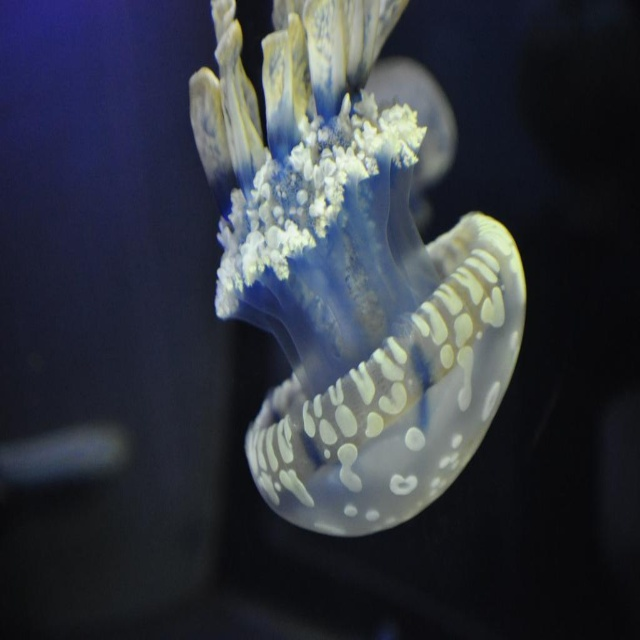Jellyfish: (186, 0, 526, 534)
